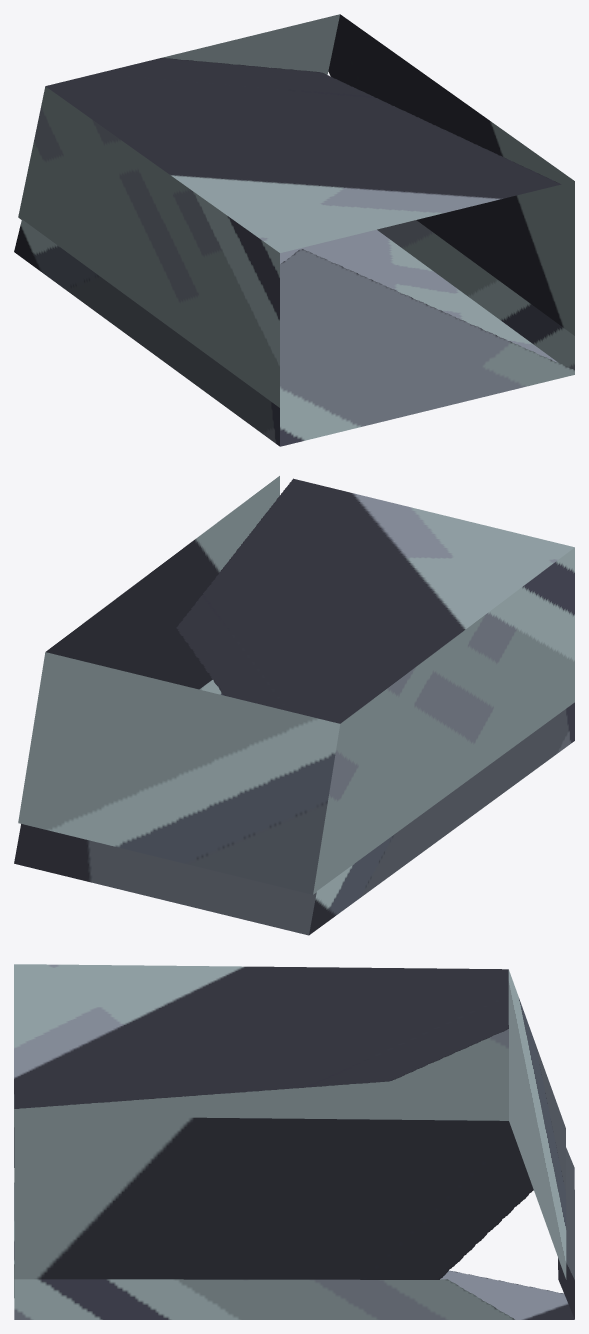
The model's file is ss8_carport_link.obj.
3 views of the same model, one above another, from view 1: azimuth 30°, elevation 25°; view 2: azimuth 150°, elevation 25°; view 3: azimuth 270°, elevation 25° (orthographic). The views are drawn at different scales.
Visible parts, largest first — view 1: cube_selection_selection_selection_selection_selection_selection; view 2: cube_selection_selection_selection_selection_selection_selection; view 3: cube_selection_selection_selection_selection_selection_selection.
Boxes of the visible parts, x1=… form: cube_selection_selection_selection_selection_selection_selection: x1=14, y1=14, x2=574, y2=446; cube_selection_selection_selection_selection_selection_selection: x1=14, y1=476, x2=574, y2=935; cube_selection_selection_selection_selection_selection_selection: x1=14, y1=964, x2=574, y2=1319.
Size of the model in its own units: 1 by 0.6272 by 1.56.
